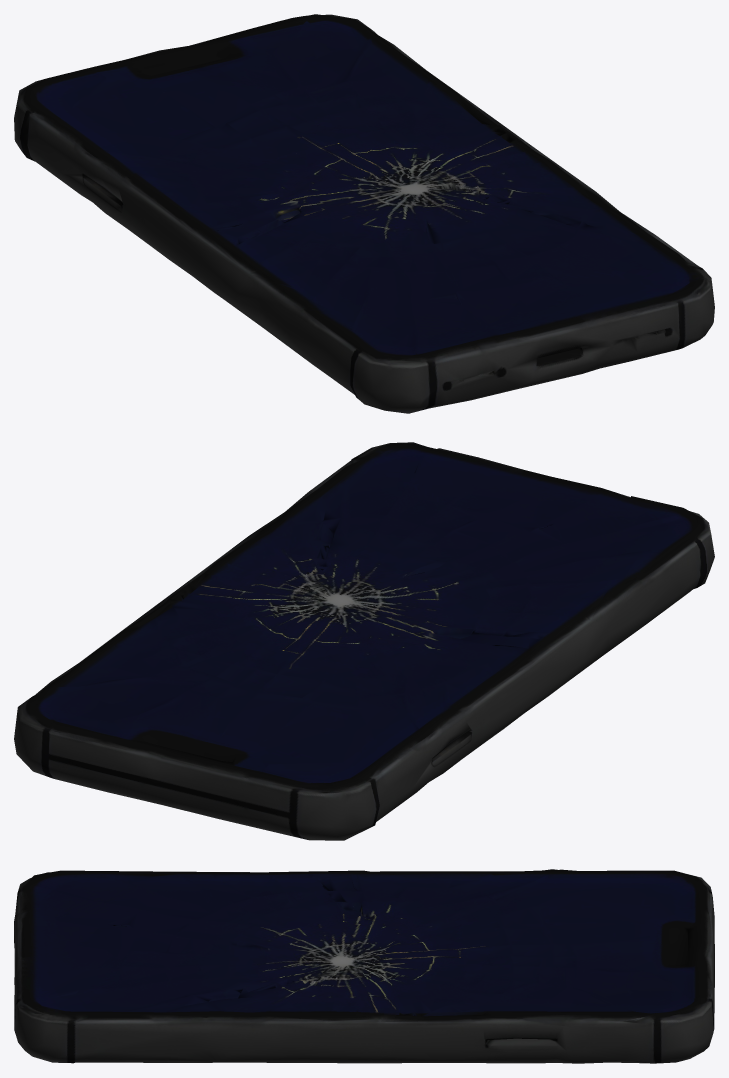
3 views of the same model, one above another, from view 1: azimuth 30°, elevation 25°; view 2: azimuth 150°, elevation 25°; view 3: azimuth 270°, elevation 25° (orthographic). The views are drawn at different scales.
Parts seen in each view (by area): view 1: tripo_node_892407d8-d540-432a-8976-1e01bf1c7f9d; view 2: tripo_node_892407d8-d540-432a-8976-1e01bf1c7f9d; view 3: tripo_node_892407d8-d540-432a-8976-1e01bf1c7f9d.
Boxes of the visible parts, left/top/right/bottom form: tripo_node_892407d8-d540-432a-8976-1e01bf1c7f9d: left=14, top=14, right=714, bottom=413; tripo_node_892407d8-d540-432a-8976-1e01bf1c7f9d: left=14, top=442, right=714, bottom=840; tripo_node_892407d8-d540-432a-8976-1e01bf1c7f9d: left=14, top=869, right=714, bottom=1063.
Size of the model in its own units: 0.5255 by 0.0833 by 1.
Materials: 1 (1 with a texture image).
